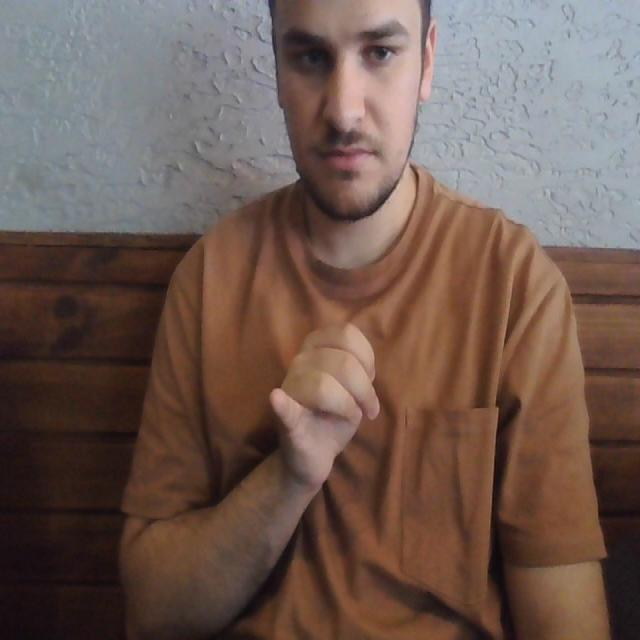kotu: (264, 307, 387, 480)
